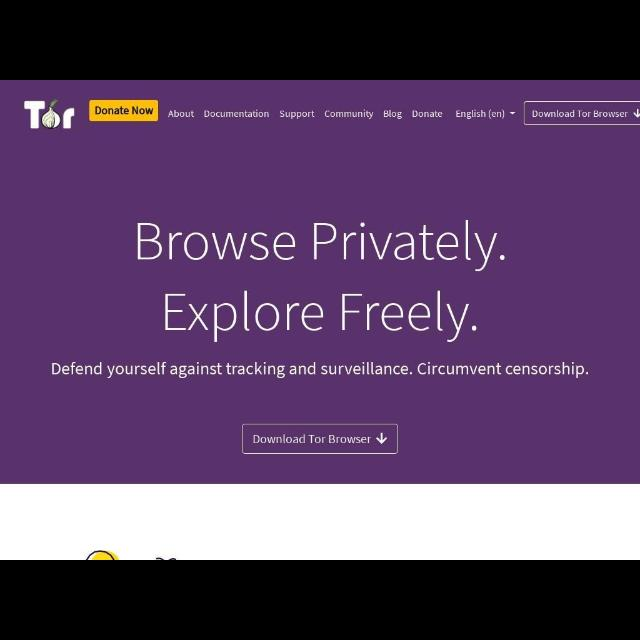icon: (376, 430, 388, 446), (633, 109, 639, 118), (509, 110, 516, 114)
image: (22, 100, 76, 130), (84, 549, 116, 559)
multitab: (167, 110, 517, 118)
spinner: (456, 110, 516, 118)
text: (137, 218, 507, 344), (51, 362, 590, 378), (252, 434, 372, 444), (531, 110, 629, 118), (94, 105, 154, 117), (204, 110, 270, 118), (324, 110, 374, 118), (456, 110, 504, 118), (412, 109, 443, 119), (280, 110, 316, 118), (167, 110, 196, 118), (383, 109, 403, 119)
textbutton: (241, 422, 399, 456), (524, 102, 638, 126), (90, 100, 158, 122)
